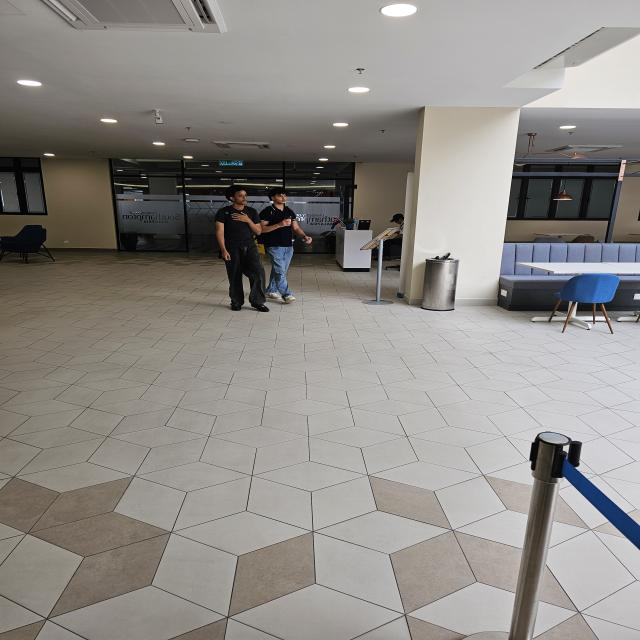footpath: (3, 348, 508, 636)
obstacle: (513, 425, 640, 640), (495, 234, 640, 328), (420, 252, 470, 314), (361, 230, 402, 304)
person: (216, 183, 266, 313), (263, 188, 304, 311)
